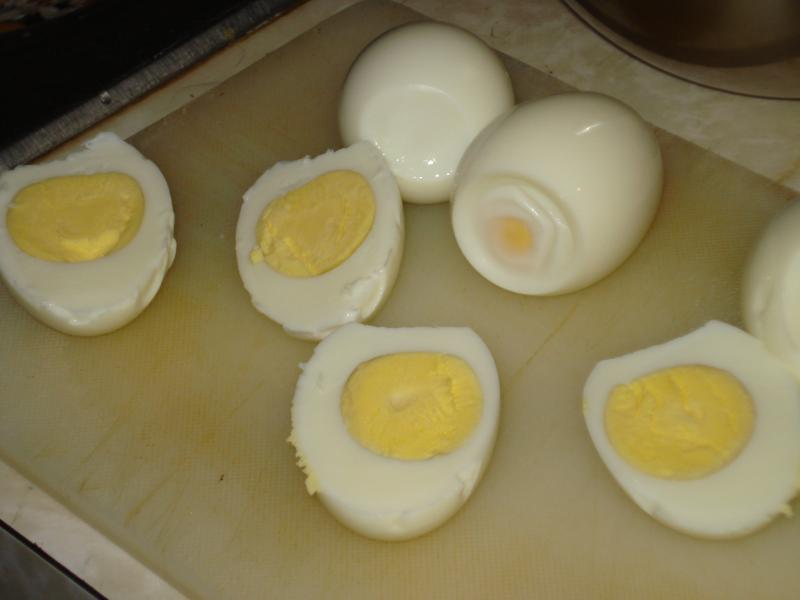Telur: (1, 93, 232, 368), (225, 321, 514, 531), (439, 82, 675, 315), (616, 330, 794, 565), (248, 119, 419, 316), (323, 40, 507, 175)
